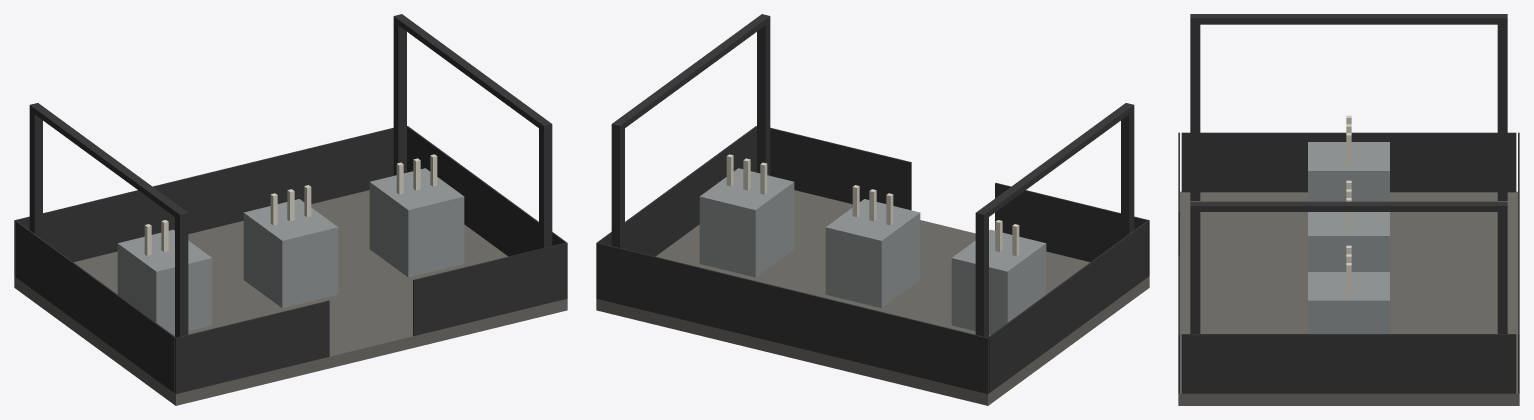
Rendered from subestacao_a.glb.
The picture shows the model from 3 angles, left to right: view 1: azimuth 30°, elevation 25°; view 2: azimuth 150°, elevation 25°; view 3: azimuth 270°, elevation 25°; orthographic projection. The views are drawn at different scales.
Parts seen in each view (by area): view 1: subestacao_a; view 2: subestacao_a; view 3: subestacao_a.
Boxes of the visible parts, x1,y1,x2,y2 form: subestacao_a: (14, 14, 567, 405); subestacao_a: (596, 14, 1149, 405); subestacao_a: (1178, 14, 1519, 405).
Bounding box in the file's own units: 14 × 6.3 × 10.
